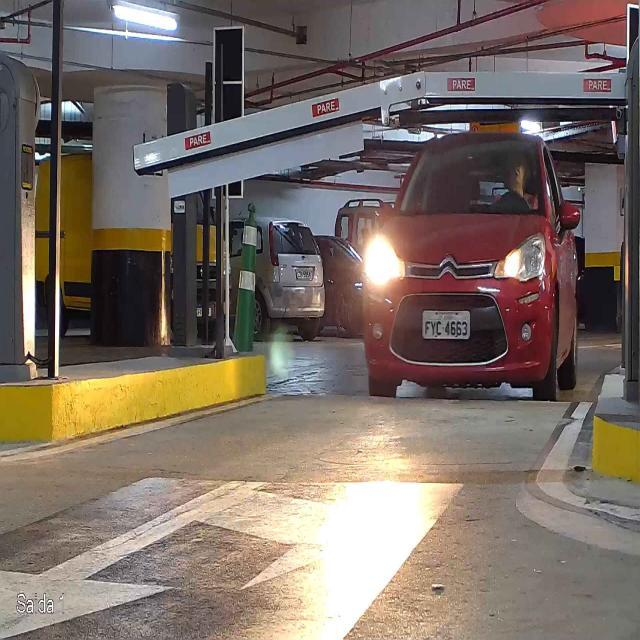old_plate: (420, 308, 472, 341)
